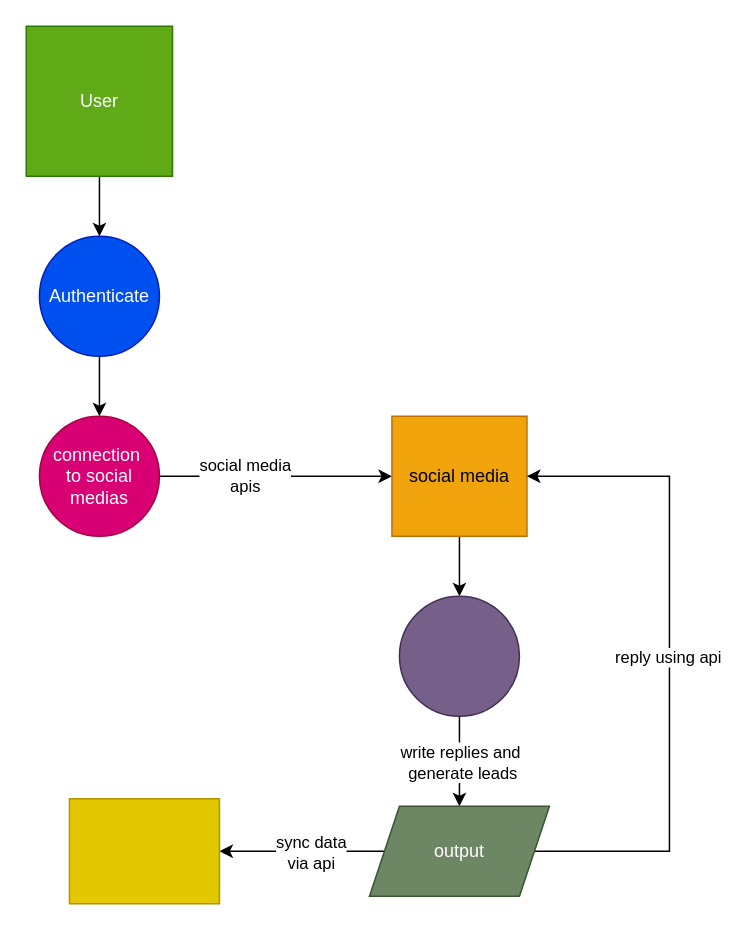
Image size: 749x930. Some labels were removed from this diagram. Here are the shapes that lost their labels. From the top down, the centre of each, then its label:
[458,655]: send to llm
[143,850]: CRM
